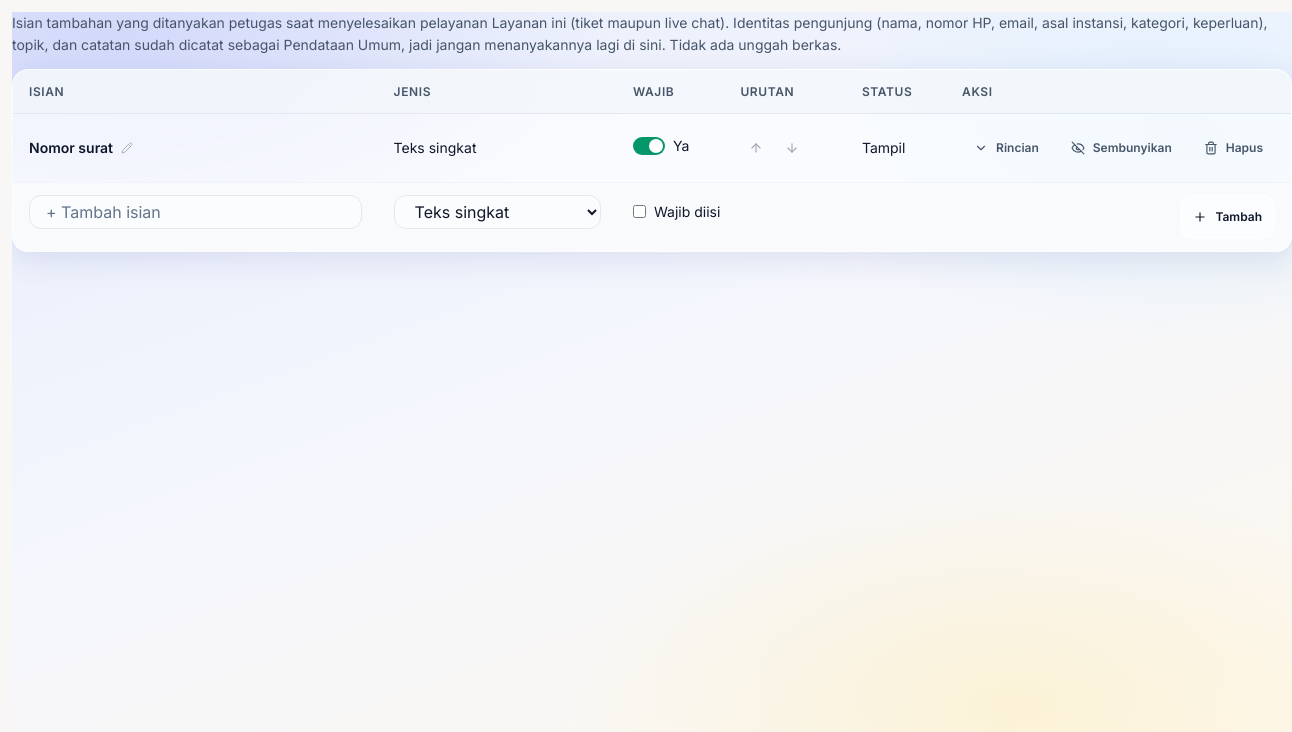
PendataanKhususEditor › label terlalu pendek ditolak di klien (alert di bawah input), galat server tampil di tempat yang sama
The image size is (1292, 732).
Click the button with aria-label "Ubah label isian Nomor surat".
click(71, 147)  # box [22,134,355,162]
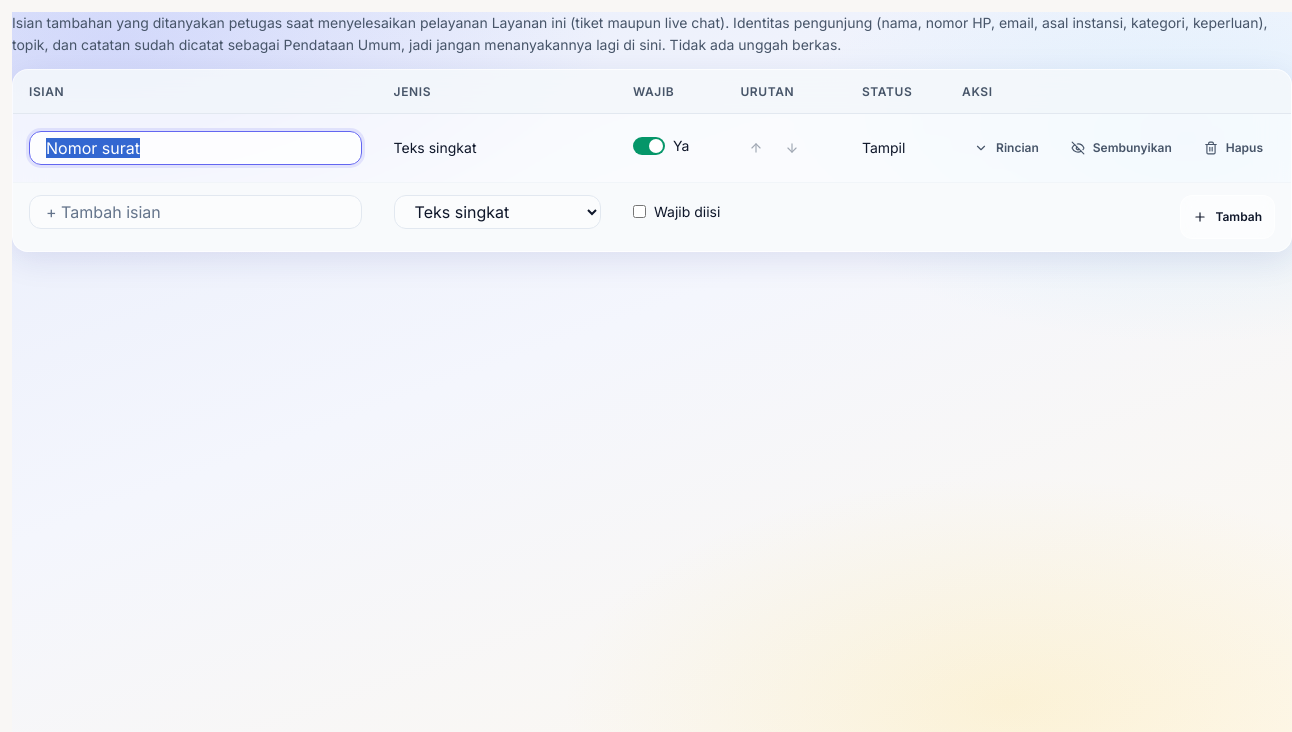
Replace the text in the field named "Label isian Nomor surat" with "x" at coordinates (195, 148), box [29,131,362,165]
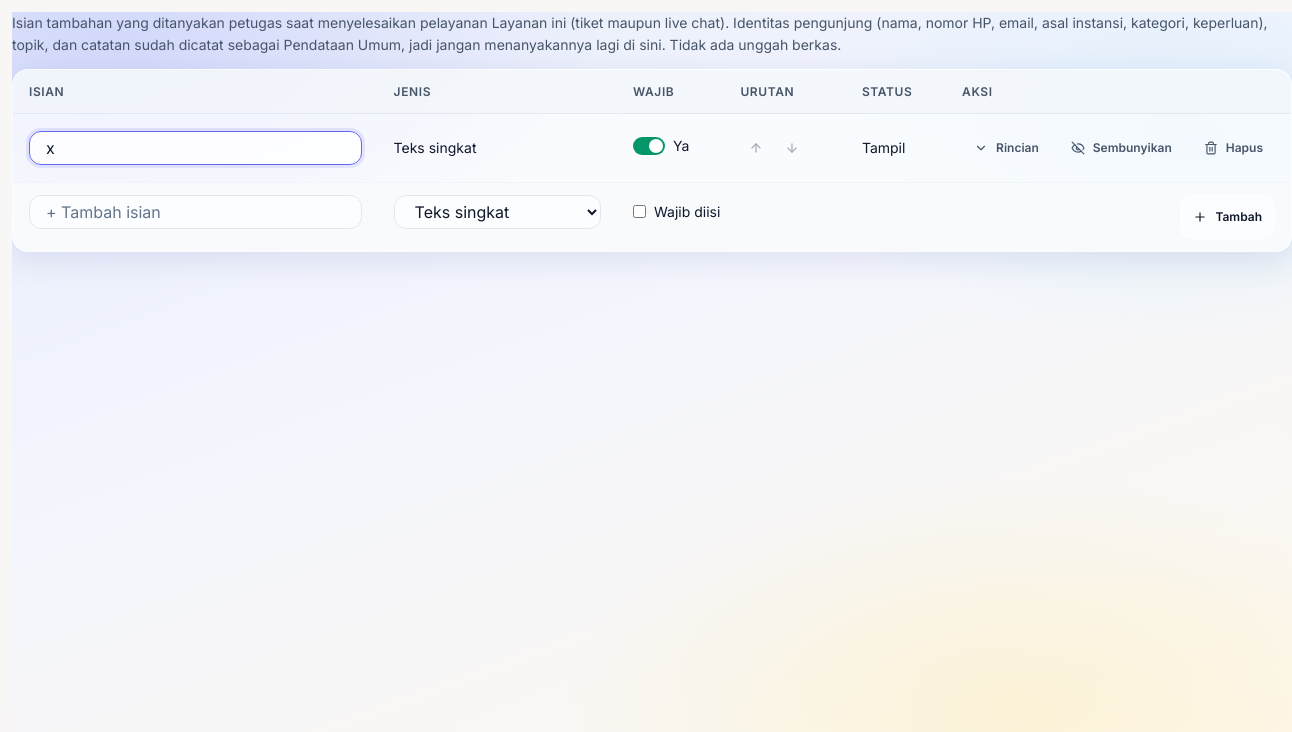
Press Enter in the field named "Label isian Nomor surat", box [29,131,362,165]
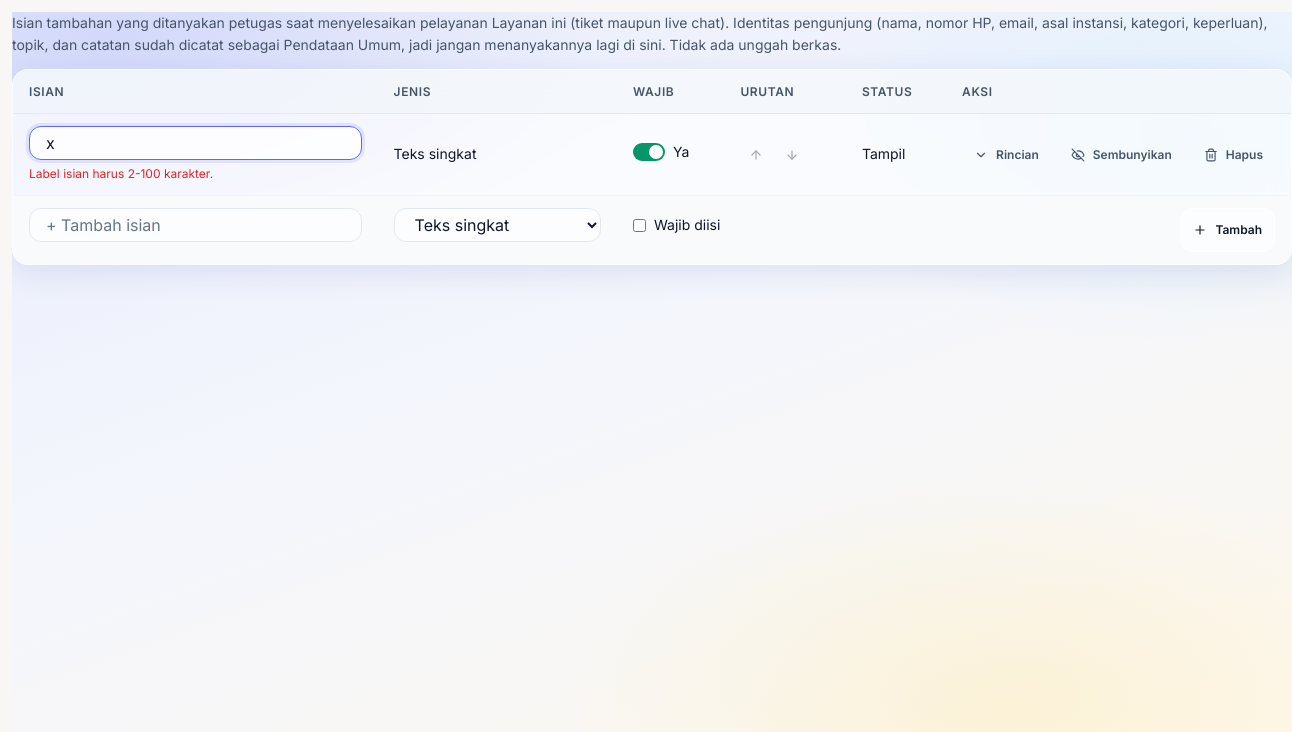
Now the message shows "2-100 karakter", box [29,166,213,181]
Replace the text in the field named "Label isian Nomor surat" with "Label bentrok" at coordinates (195, 143), box [29,126,362,160]
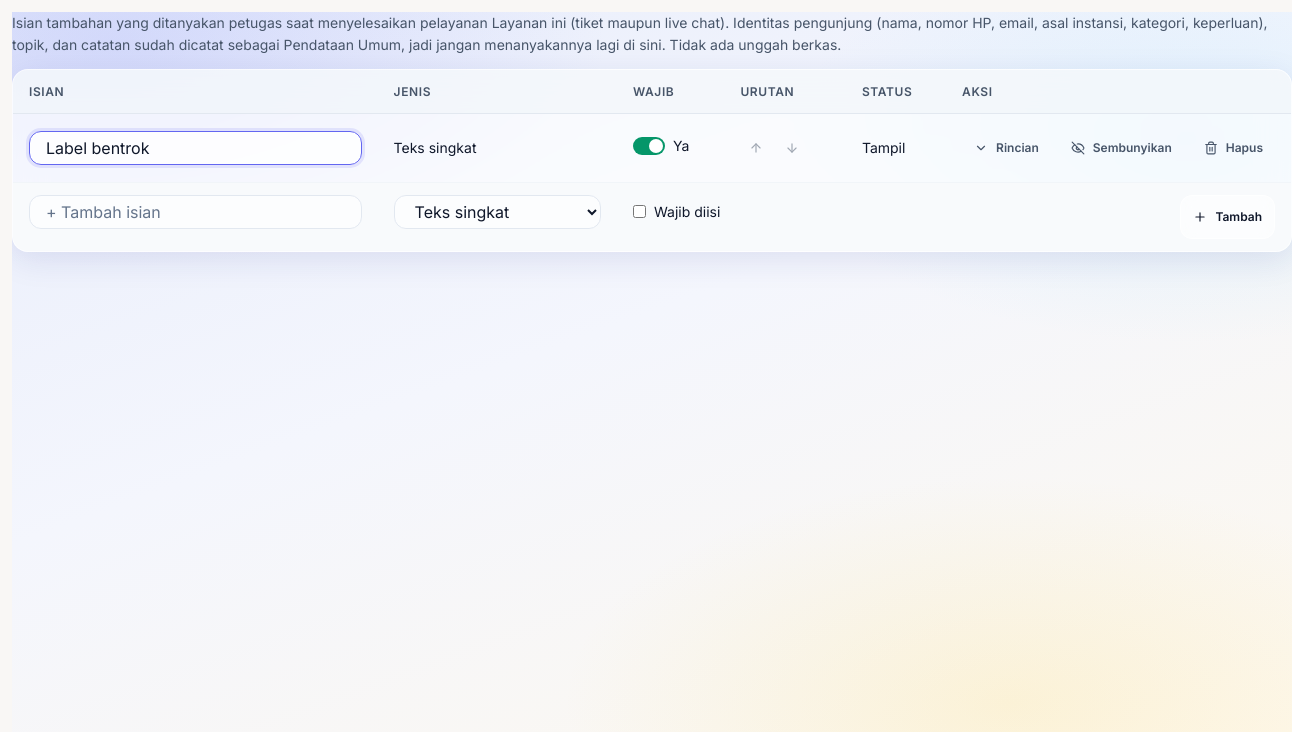
Press Enter in the field named "Label isian Nomor surat", box [29,131,362,165]
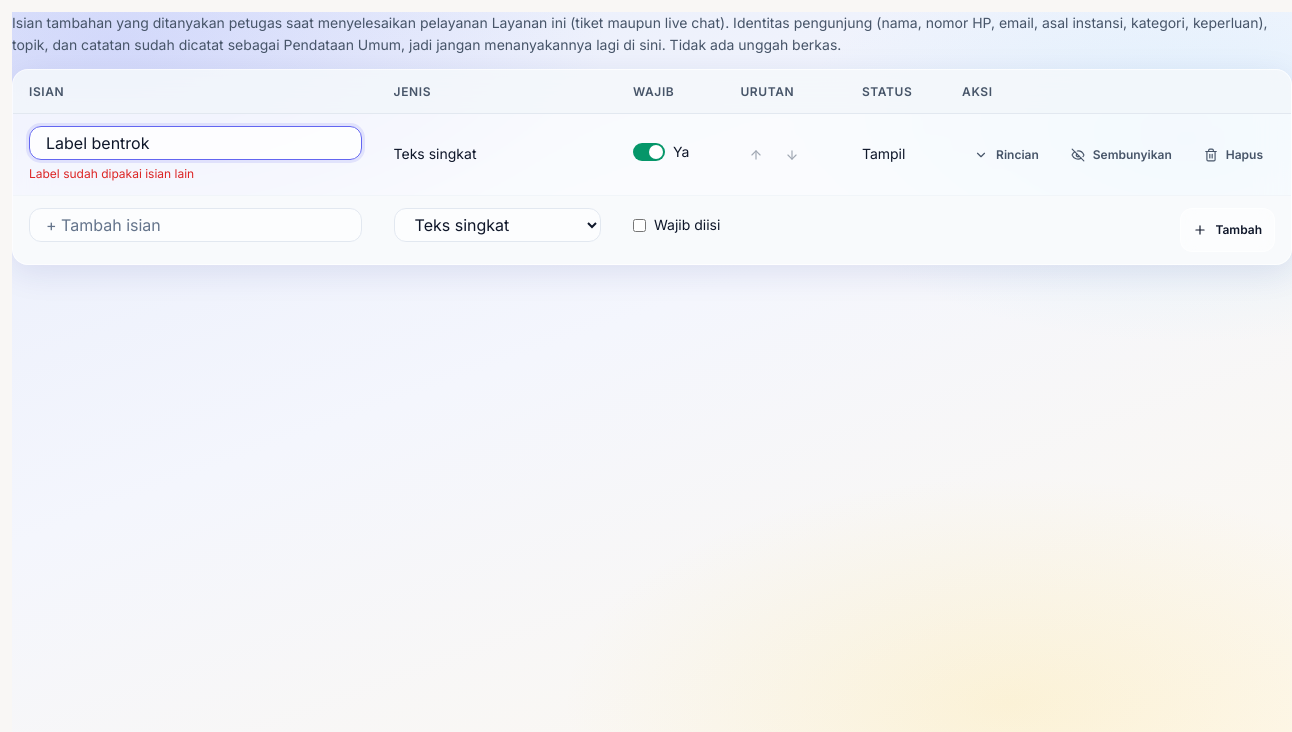
Now the message shows "sudah dipakai", box [29,166,194,181]
